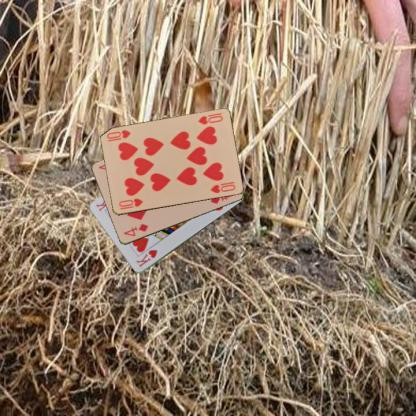10h: (116, 196, 144, 211), (195, 113, 224, 126)
4d: (121, 221, 150, 238)
Kh: (133, 247, 159, 269)
